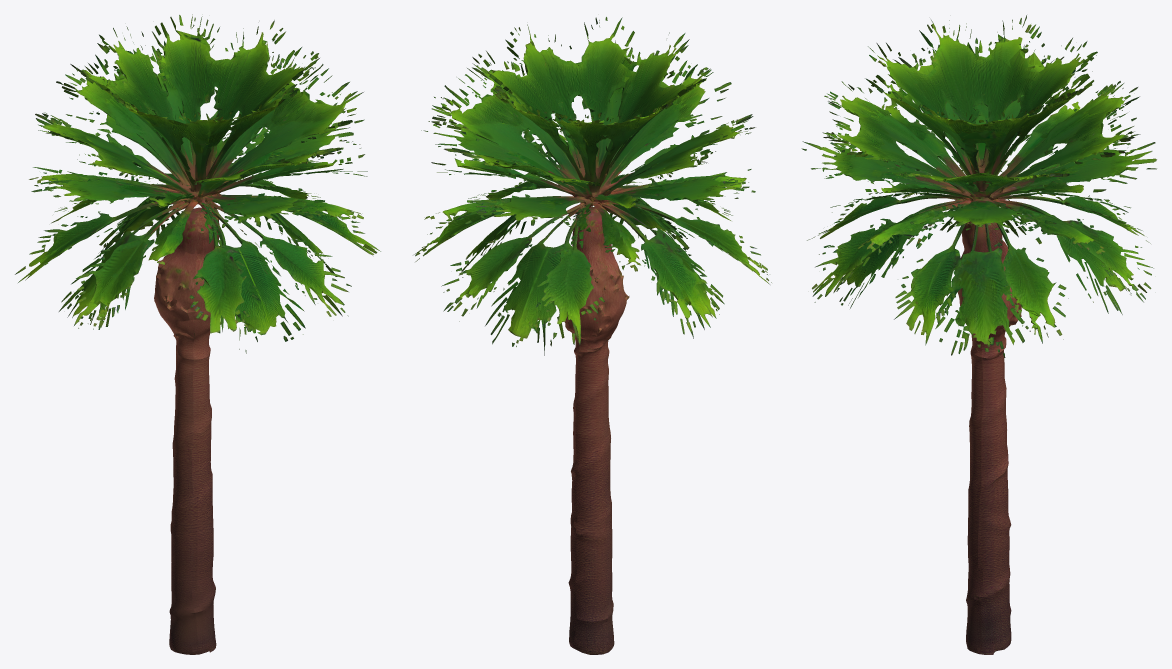
Rendered from veg_tropical_palm_01.glb.
The picture shows the model from 3 angles, left to right: view 1: azimuth 30°, elevation 25°; view 2: azimuth 150°, elevation 25°; view 3: azimuth 270°, elevation 25°; orthographic projection.
Visible parts, largest first — view 1: veg_tropical_palm_01; view 2: veg_tropical_palm_01; view 3: veg_tropical_palm_01.
Boxes of the visible parts, <box> form: veg_tropical_palm_01: <box>15,14,380,654</box>; veg_tropical_palm_01: <box>414,17,771,654</box>; veg_tropical_palm_01: <box>801,15,1156,654</box>.
Bounding box in the file's own units: 5.58 × 9.96 × 5.5.
Materials: 1 (1 with a texture image).
